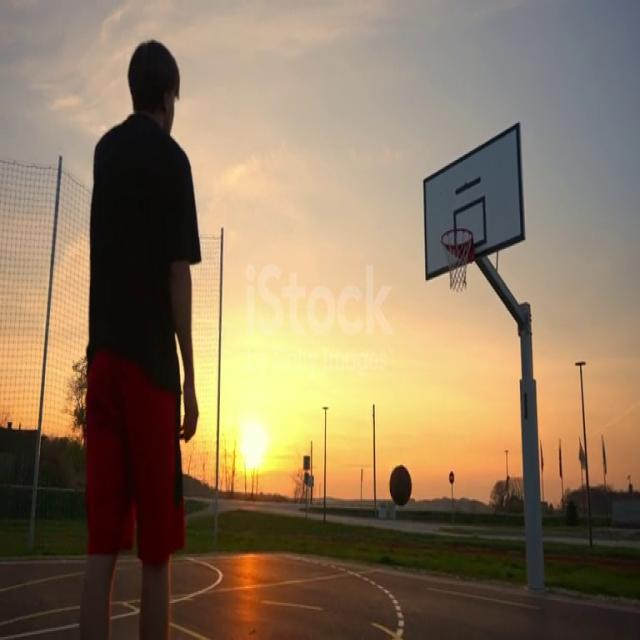ball: (388, 465, 412, 507)
